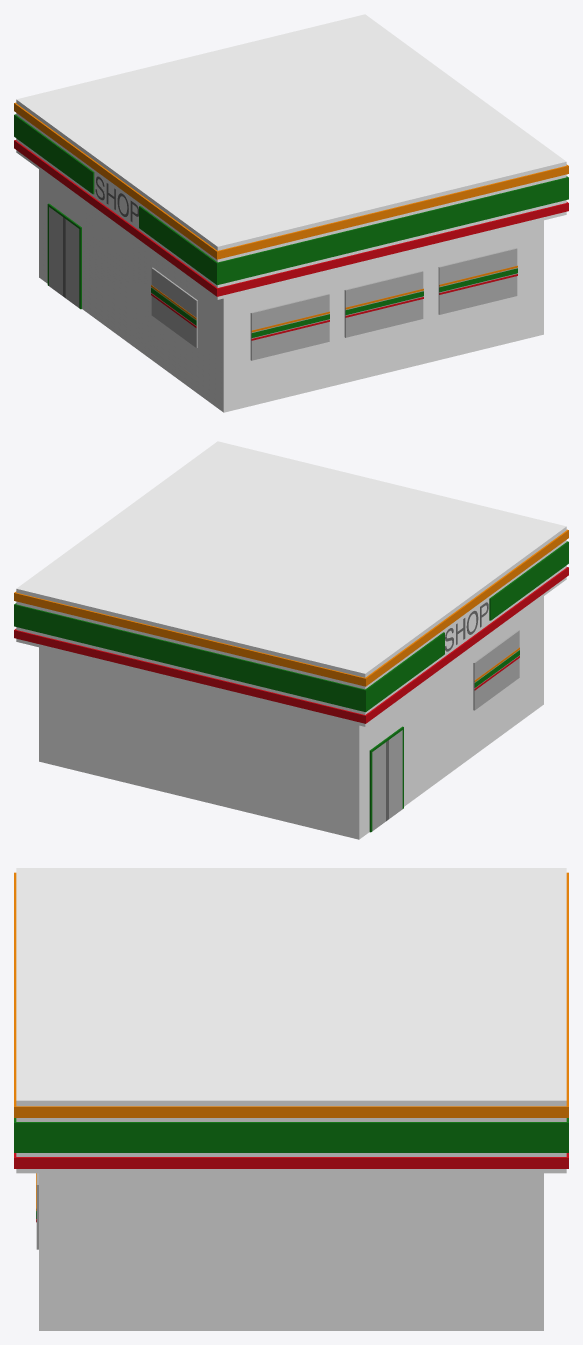
The model's file is SHOP.fbx.
The picture shows the model from 3 angles, top to bottom: view 1: azimuth 30°, elevation 25°; view 2: azimuth 150°, elevation 25°; view 3: azimuth 270°, elevation 25°; orthographic projection. The views are drawn at different scales.
Parts seen in each view (by area): view 1: 图层 05, GREY, green, orange, red, block; view 2: 图层 05, green, orange, red, GREY, block; view 3: 图层 05, green, orange, red.
Part boxes in pixels (bbox=[...]): 图层 05: bbox=[16, 14, 566, 412]; GREY: bbox=[49, 207, 517, 360]; green: bbox=[14, 114, 568, 337]; orange: bbox=[14, 102, 568, 332]; red: bbox=[14, 140, 568, 340]; block: bbox=[63, 176, 138, 297]; 图层 05: bbox=[16, 441, 566, 839]; green: bbox=[14, 541, 568, 832]; orange: bbox=[14, 529, 568, 686]; red: bbox=[14, 567, 568, 723]; GREY: bbox=[372, 630, 519, 831]; block: bbox=[386, 602, 488, 821]; 图层 05: bbox=[16, 868, 566, 1330]; green: bbox=[14, 1118, 568, 1218]; orange: bbox=[14, 872, 568, 1210]; red: bbox=[14, 1153, 568, 1222].
Bounding box in the file's own units: 3228 × 1538 × 3228.
